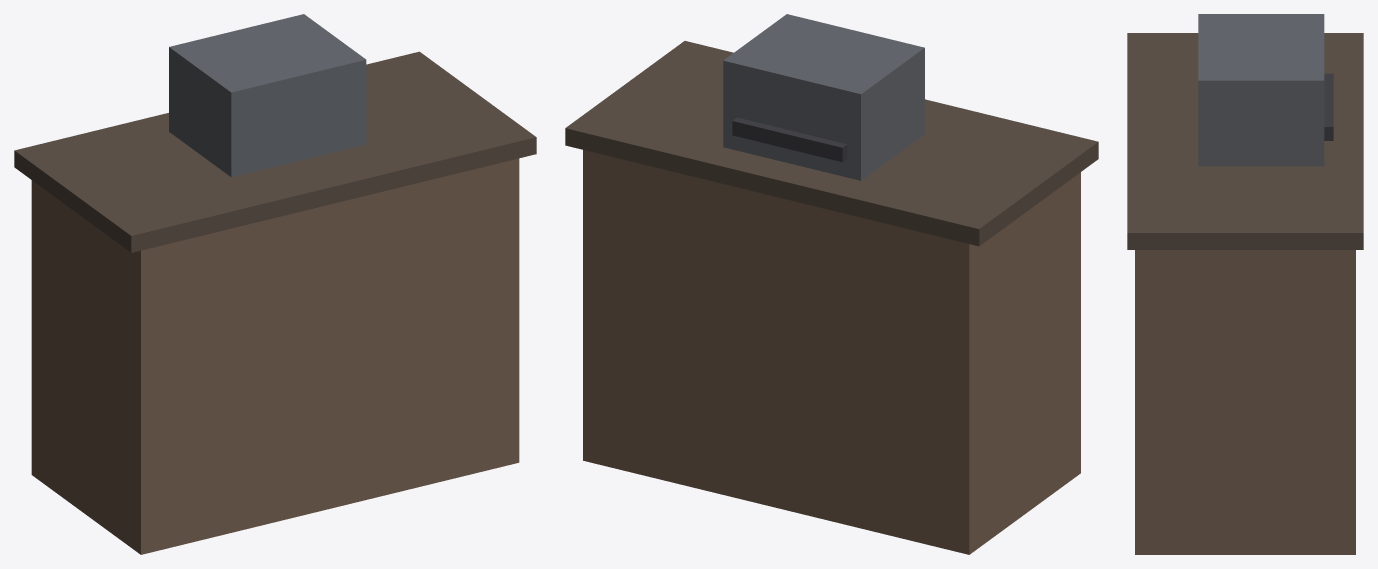
File: prop_reji_dai.glb
The picture shows the model from 3 angles, left to right: view 1: azimuth 30°, elevation 25°; view 2: azimuth 150°, elevation 25°; view 3: azimuth 270°, elevation 25°; orthographic projection. The views are drawn at different scales.
Parts seen in each view (by area): view 1: reji_dai; view 2: reji_dai; view 3: reji_dai.
Part boxes in pixels (x1,y1,x2,y2): reji_dai: (14, 14, 536, 554); reji_dai: (565, 14, 1098, 554); reji_dai: (1127, 14, 1363, 554).
Bounding box in the file's own units: 1.5 × 1.45 × 0.75.
